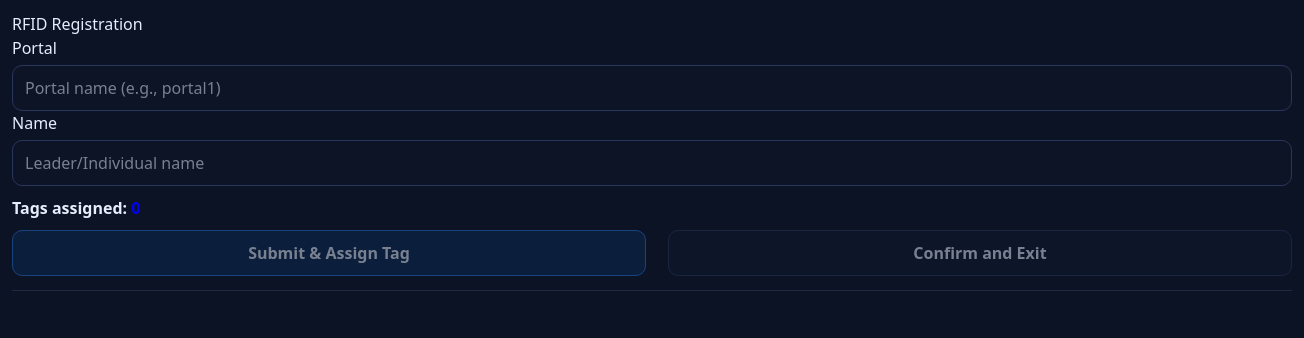
Scenario: RegistrationForm Component - Comprehensive Tests › Registration and Linking Process › should handle linking failure after successful registration
Type "portal1" into the field with placeholder "Portal name (e.g., portal1)" at (652, 88), box [12, 65, 1292, 111]
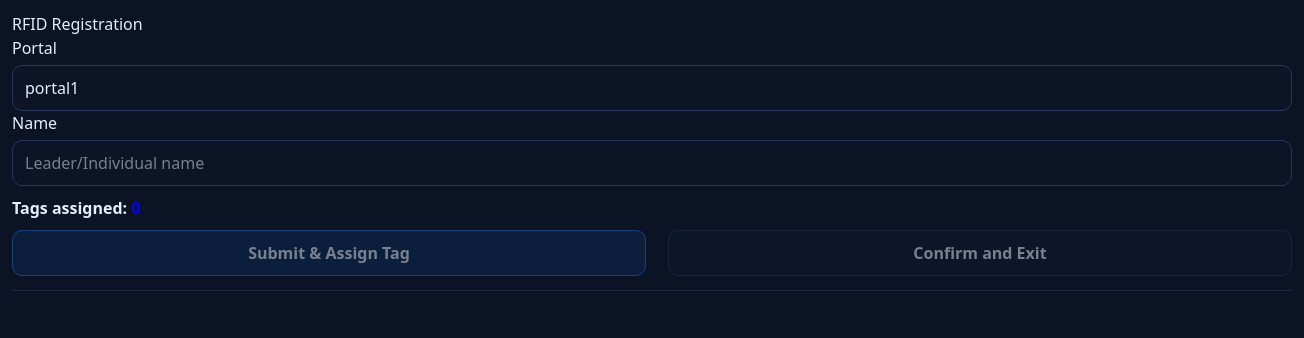
Type "John Doe" into the field with placeholder "Leader/Individual name" at (652, 163), box [12, 140, 1292, 186]
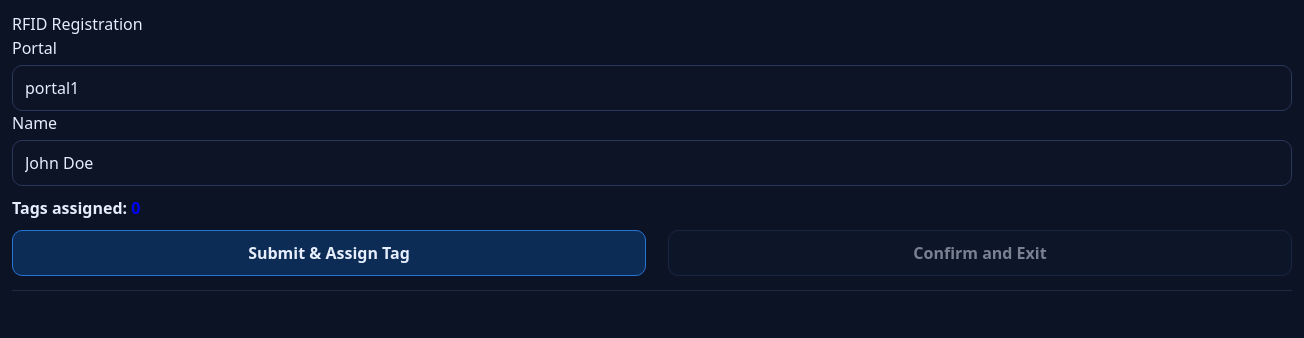
Click the button "Submit & Assign Tag" at (329, 253), box [12, 230, 646, 276]
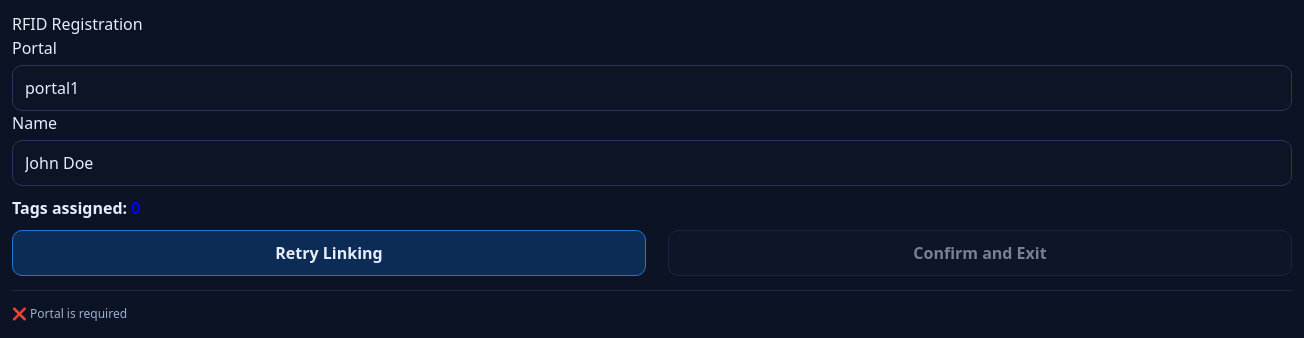
Now the button "Retry Linking" is shown, box [12, 230, 646, 276]
